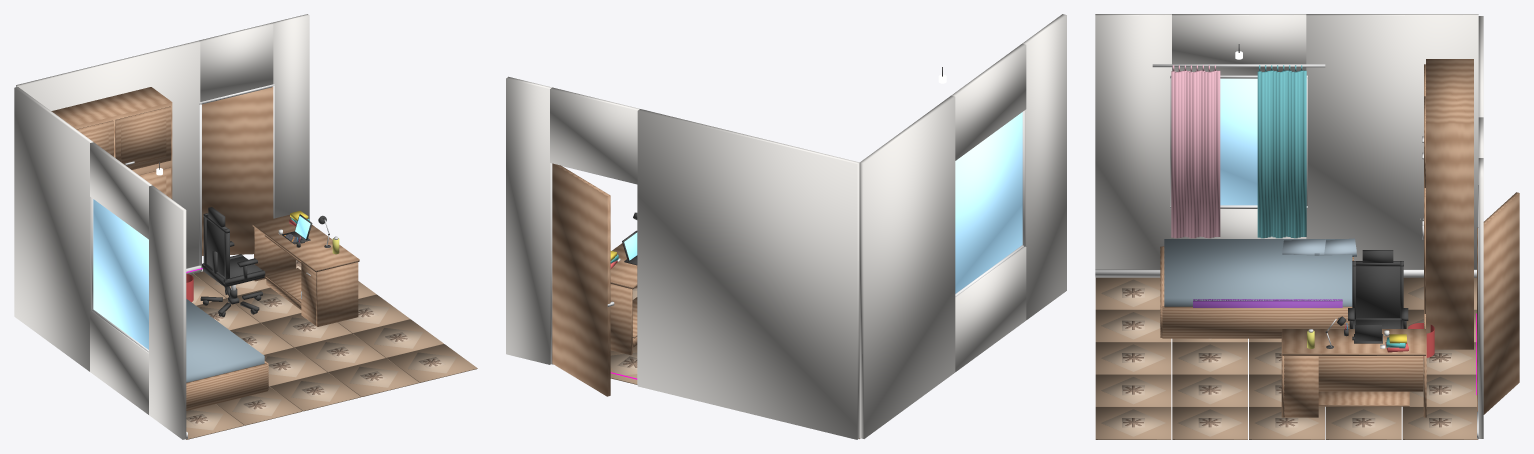
File: room_model.glb
The picture shows the model from 3 angles, left to right: view 1: azimuth 30°, elevation 25°; view 2: azimuth 150°, elevation 25°; view 3: azimuth 270°, elevation 25°; orthographic projection. The views are drawn at different scales.
Visible parts, largest first — view 1: Wall_Left_Post2, Wall_Back_Post1, DoorPanel, Wall_Left_Post1, Wall_Back_Post2, Window_Glass, Wall_Back_AboveDoor, Wall_Left_UnderWindow, Mattress, Wall_Left_AboveWindow, Wardrobe_Body, Desk_Panel_Right (+32 smaller); view 2: Wall_Back_Post1, Wall_Left_Post2, Wall_Back_Post2, DoorPanel, Wall_Left_Post1, Window_Glass, Wall_Back_AboveDoor, Wall_Left_UnderWindow, Wall_Left_AboveWindow, Desk_Panel_Left, Desk_Top; view 3: Wall_Left_Post2, Wall_Left_Post1, Wardrobe_Body, Mattress, Wall_Left_AboveWindow, DoorPanel, BedFrame_SideR, Window_Glass, Desk_Modesty_Back, Desk_Top, Chair_Back_Mesh, Desk_Drawers_Box (+72 smaller).
Boxes of the visible parts, <box> form: Wall_Left_Post2: <box>14,87,93,371</box>; Wall_Back_Post1: <box>16,41,200,268</box>; DoorPanel: <box>202,87,273,255</box>; Wall_Left_Post1: <box>149,185,186,439</box>; Wall_Back_Post2: <box>271,14,309,219</box>; Window_Glass: <box>93,199,148,349</box>; Wall_Back_AboveDoor: <box>198,23,273,101</box>; Wall_Left_UnderWindow: <box>90,311,148,414</box>; Mattress: <box>186,299,264,382</box>; Wall_Left_AboveWindow: <box>90,142,152,239</box>; Wardrobe_Body: <box>51,87,172,199</box>; Desk_Panel_Right: <box>316,262,358,326</box>; Wall_Back_Post1: <box>637,109,859,439</box>; Wall_Left_Post2: <box>859,95,955,438</box>; Wall_Back_Post2: <box>506,76,551,364</box>; DoorPanel: <box>552,163,610,396</box>; Wall_Left_Post1: <box>1022,14,1066,319</box>; Window_Glass: <box>955,112,1022,293</box>; Wall_Back_AboveDoor: <box>550,87,639,183</box>; Wall_Left_UnderWindow: <box>955,246,1026,371</box>; Wall_Left_AboveWindow: <box>951,43,1026,160</box>; Desk_Panel_Left: <box>610,284,632,355</box>; Desk_Top: <box>610,243,637,289</box>; Wall_Left_Post2: <box>1306,14,1478,269</box>; Wall_Left_Post1: <box>1095,14,1171,269</box>; Wardrobe_Body: <box>1426,59,1473,349</box>; Mattress: <box>1164,239,1352,306</box>; Wall_Left_AboveWindow: <box>1172,14,1306,75</box>; DoorPanel: <box>1477,192,1519,414</box>; BedFrame_SideR: <box>1162,306,1352,338</box>; Window_Glass: <box>1220,78,1257,205</box>; Desk_Modesty_Back: <box>1318,356,1423,391</box>; Desk_Top: <box>1282,329,1425,355</box>; Chair_Back_Mesh: <box>1356,266,1400,318</box>; Desk_Drawers_Box: <box>1284,356,1318,417</box>.
Size of the model in its own units: 4.05 by 3.02 by 4.43.
Materials: 79 (1 with a texture image).
